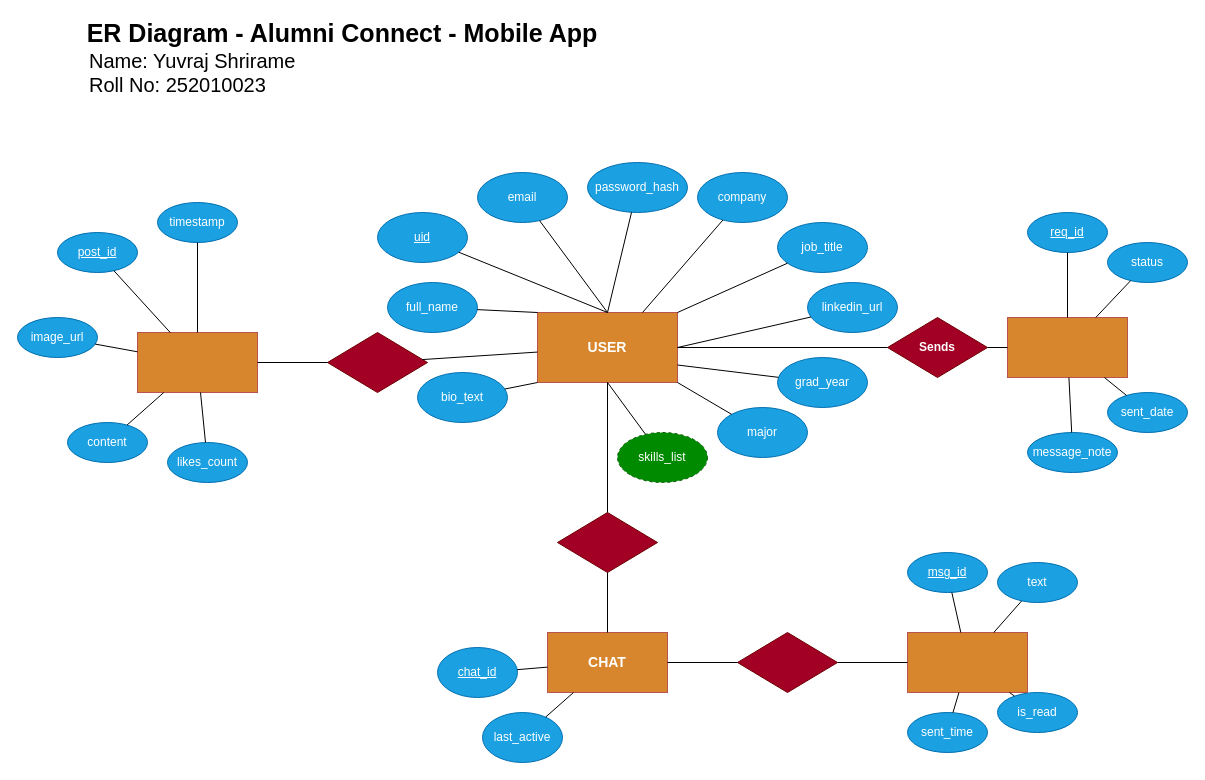
The diagram is 1205 pixels wide and 780 high, and some of its shapes have lost their labels. Here are the shapes that lost their labels. From the top down, the centre of each, then its label:
point 197,362: POST
point 377,362: Publishes
point 1067,347: REQUEST
point 607,542: Joins
point 787,662: Contains
point 967,662: MESSAGE
